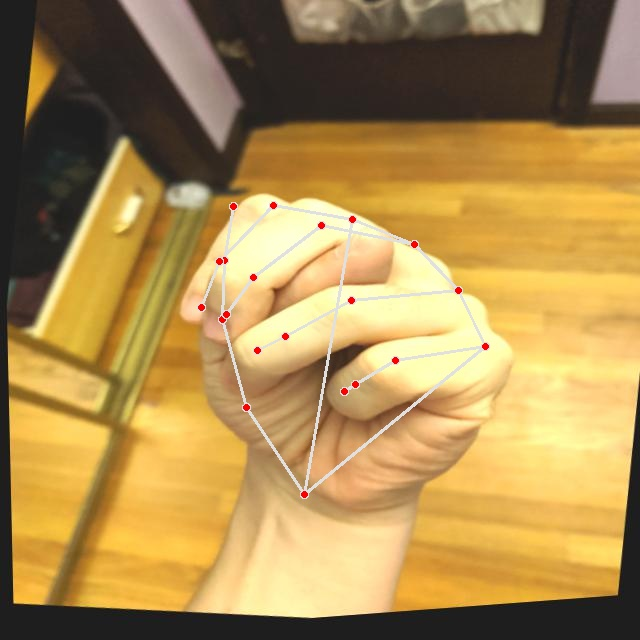N: (144, 167, 542, 548)
